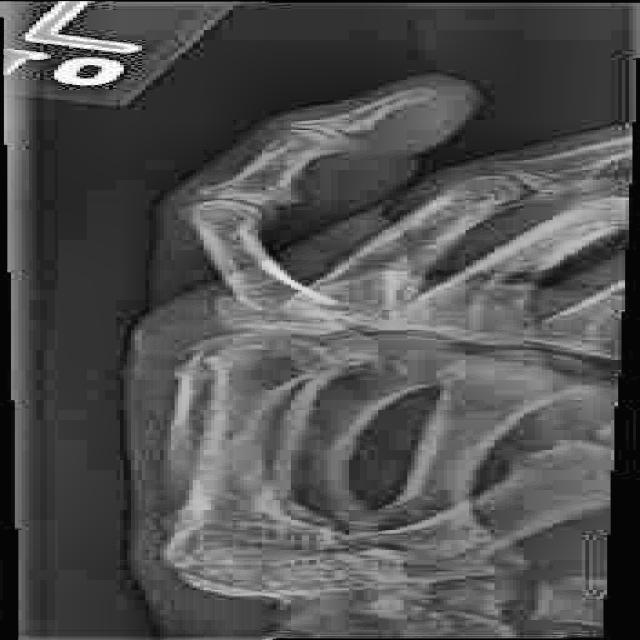fingers positive: (182, 277, 374, 337)
